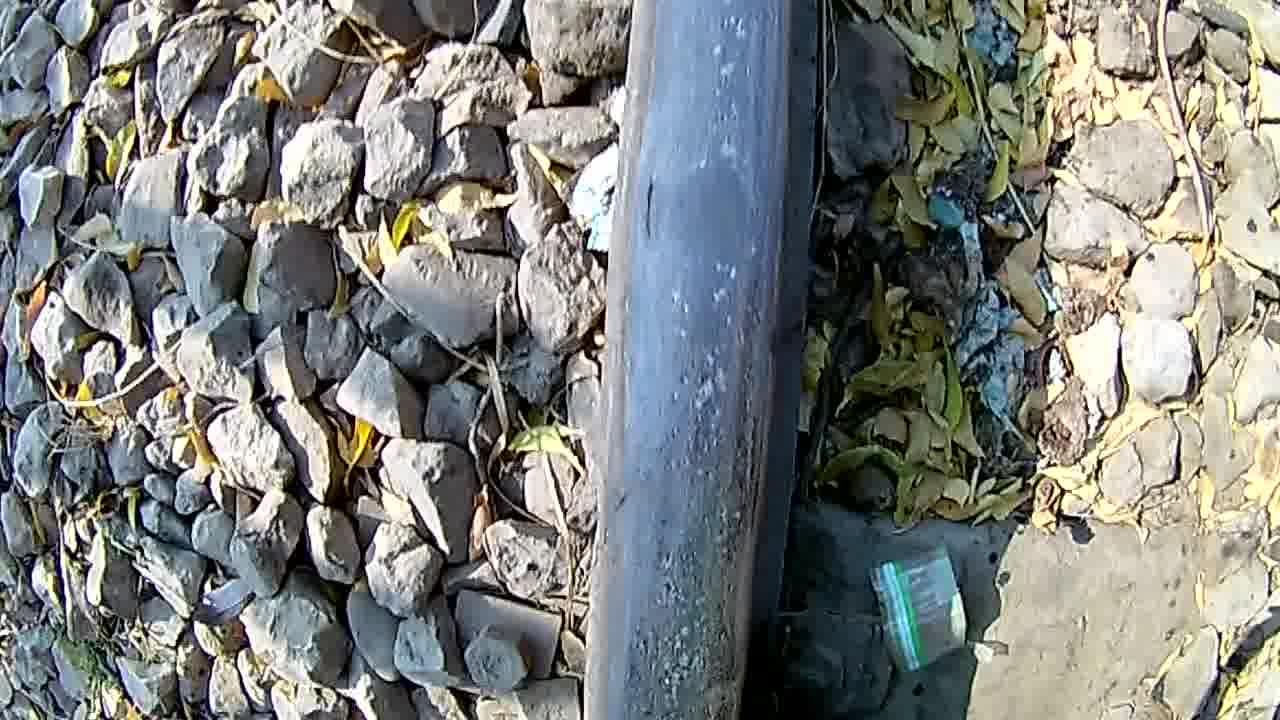bolt_missing: (632, 121, 797, 340)
